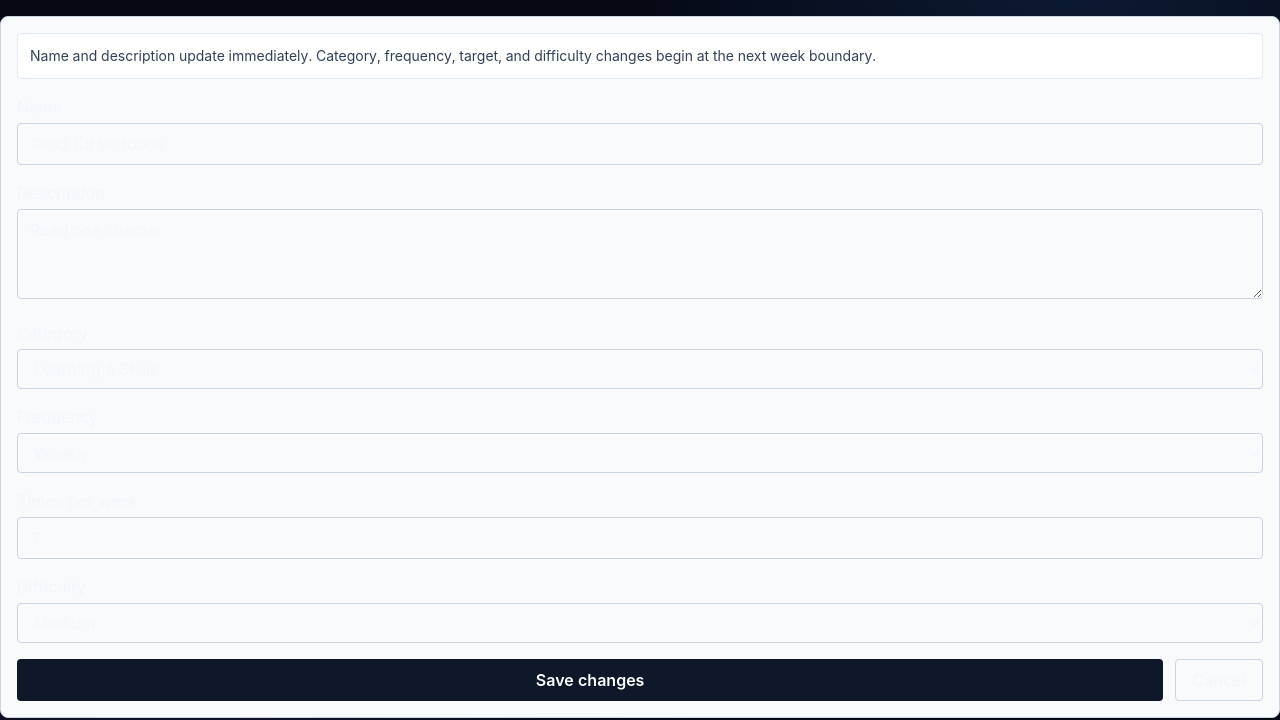
Scenario: HabitEditForm › shows the backend error when the update fails
The width and height of the screenshot is (1280, 720).
What coordinates should you click on to do the following:
click the button "Save changes"
I would click on:
 (590, 680)
Its box is 17,659 -> 1163,701.
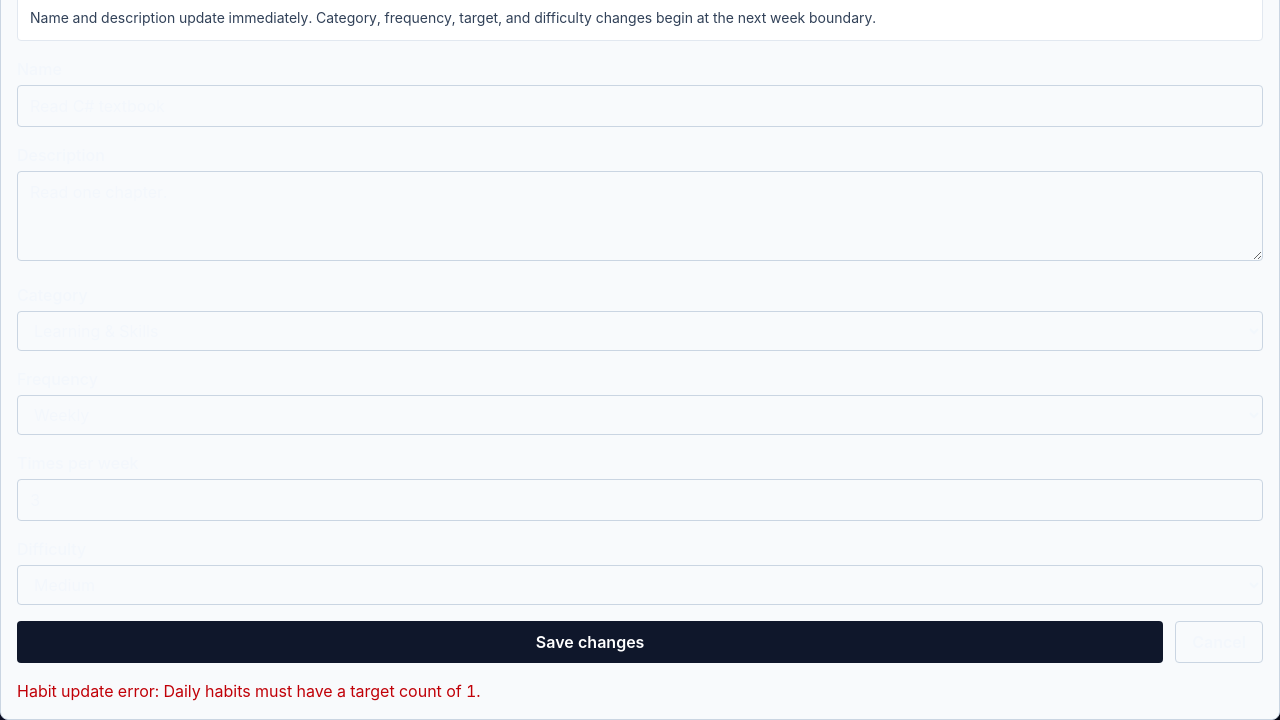
Now the message reads "Habit update error: Daily habits must have a target count of 1.", box 17,681 -> 481,701
